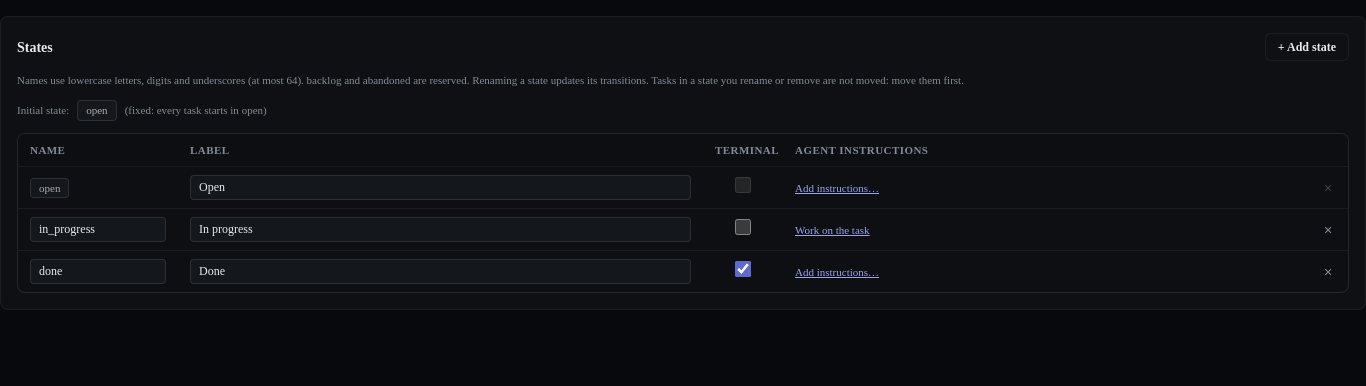
Test: StatesTable: name validation (mirrors the backend) › clicking Add state drops a pending invalid name (row indexes shift)
Replace the text in the field named "State name for row 2" with "QA": x=98, y=230 x1=30 y1=217 x2=166 y2=242
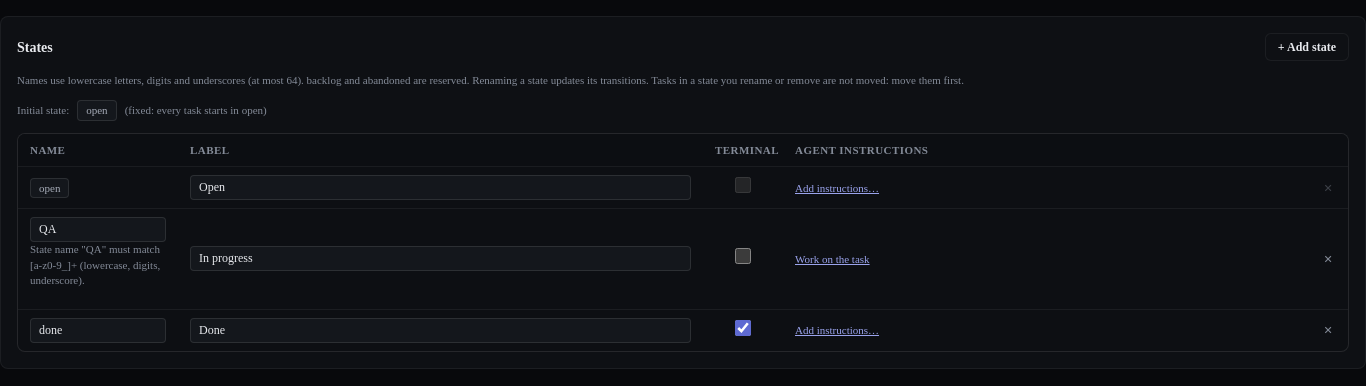
Expected: the message "State name \"QA\" must match [a-z0-9_]+ (lowercase, digits, underscore)." is shown, x1=30 y1=242 x2=166 y2=289
Click the button "+ Add state": x=1307, y=47 x1=1265 y1=33 x2=1349 y2=61
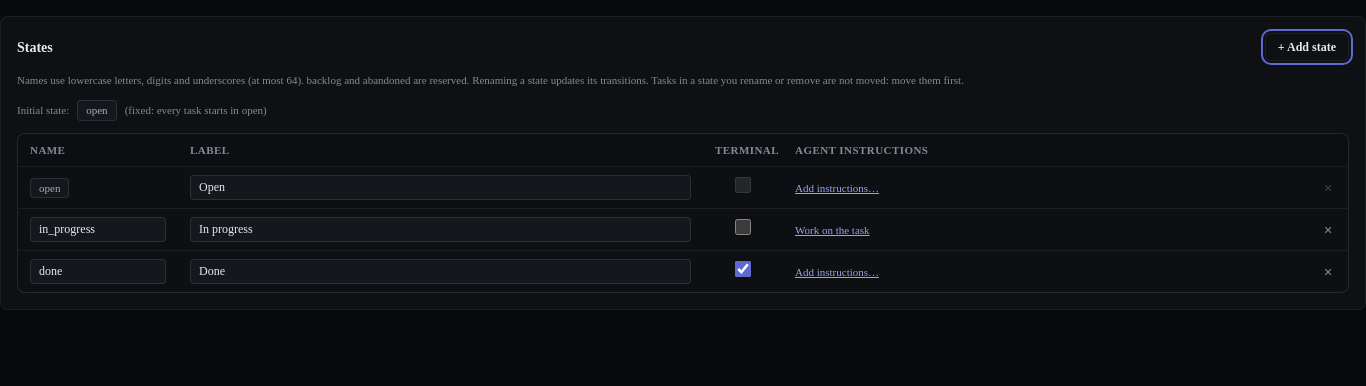
Expected: the message "State name \"QA\" must match [a-z0-9_]+ (lowercase, digits, underscore)." is gone
Expected: the field named "State name for row 2" holds "in_progress", x1=30 y1=217 x2=166 y2=242
